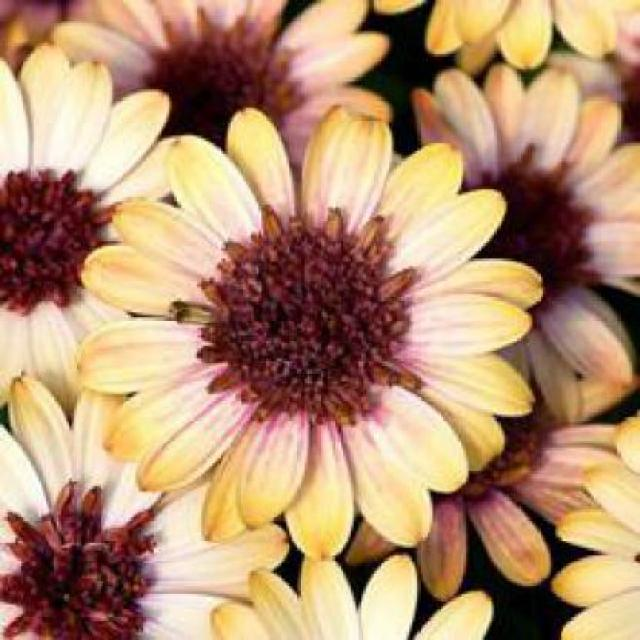Flower: (80, 107, 546, 561), (341, 69, 638, 423), (51, 3, 392, 252), (2, 372, 295, 638), (3, 43, 200, 405), (213, 212, 410, 423), (212, 545, 494, 638), (143, 15, 300, 164), (3, 486, 154, 637), (442, 156, 584, 315), (548, 410, 637, 638), (3, 170, 100, 313)
